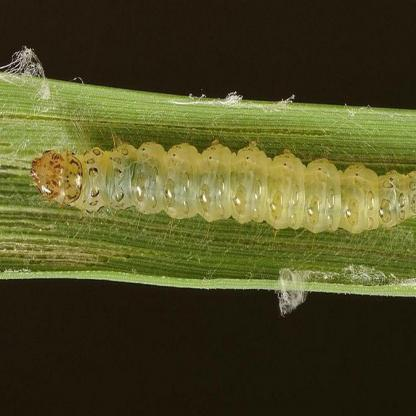leaf-folder: (20, 130, 416, 241)
